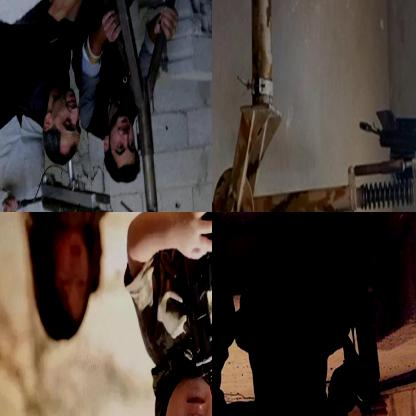rifle: (320, 212, 398, 415), (163, 212, 211, 397)
